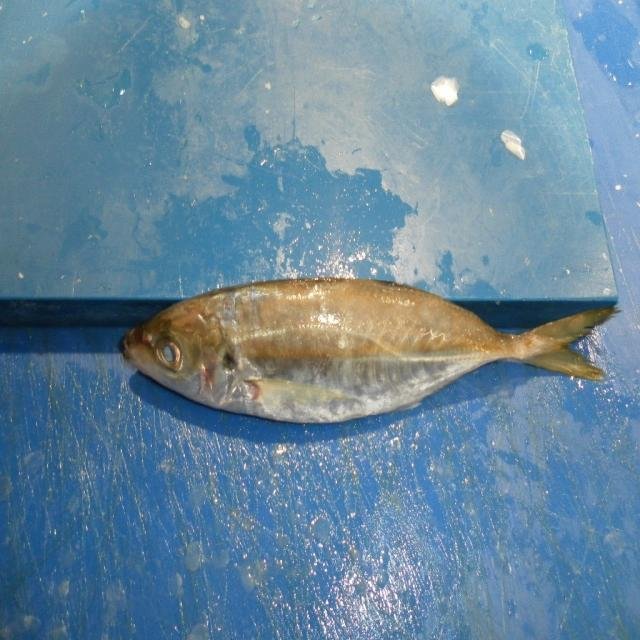Hourse-Mackerel-istavrit-: (118, 278, 617, 427)
